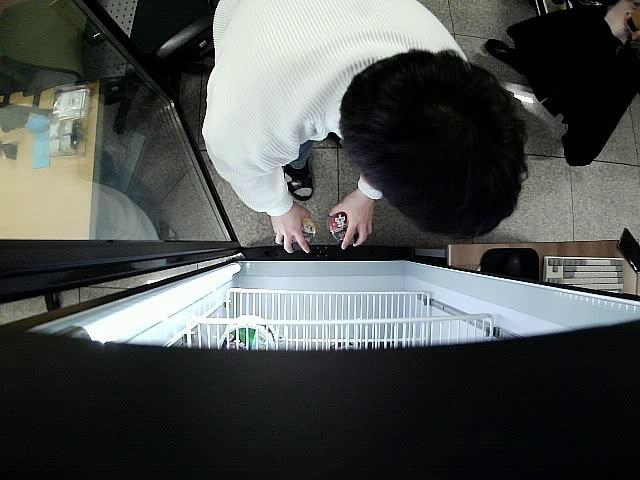08_buldak_S: (278, 216, 316, 248), (329, 213, 359, 247)
